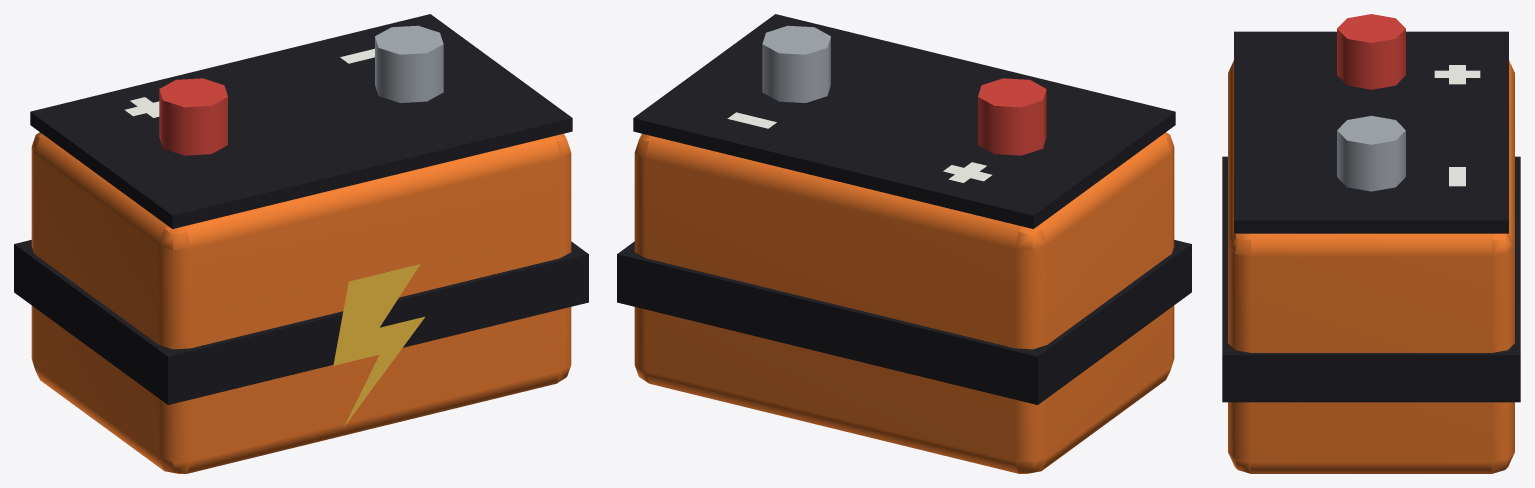
The model's file is RadioBateria.fbx.
3 views of the same model, side by side, from view 1: azimuth 30°, elevation 25°; view 2: azimuth 150°, elevation 25°; view 3: azimuth 270°, elevation 25° (orthographic). The views are drawn at different scales.
Visible parts, largest first — view 1: RadioBateria; view 2: RadioBateria; view 3: RadioBateria.
Part boxes in pixels (x1=…): RadioBateria: x1=14, y1=14, x2=588, y2=473; RadioBateria: x1=617, y1=14, x2=1191, y2=473; RadioBateria: x1=1222, y1=14, x2=1520, y2=473.
Size of the model in its own units: 1.64 by 1.18 by 1.05.
1 material, 1 textured.
